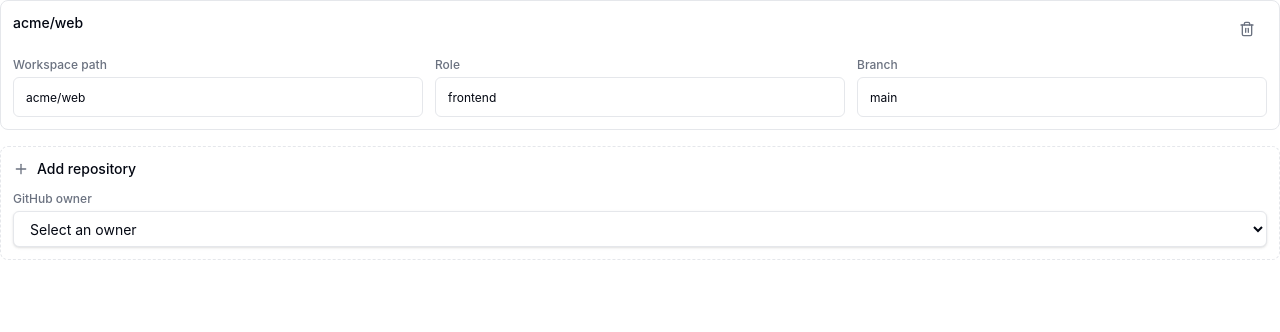
RepositoriesSection › does not re-add an already-linked repository
The width and height of the screenshot is (1280, 332).
Select "acme" in the dropdown labelled "GitHub owner": (640, 229) [13,211,1267,247]
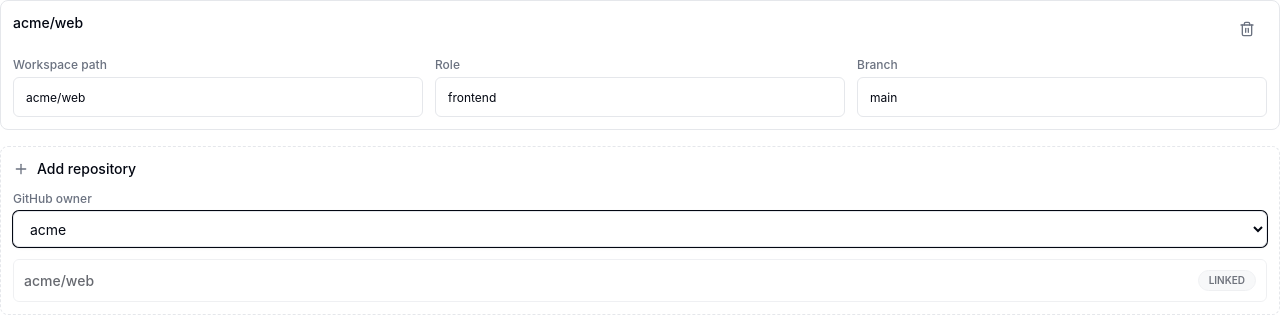
Check: the button with aria-label "Add acme/web" is disabled, box [13,259,1267,302]
